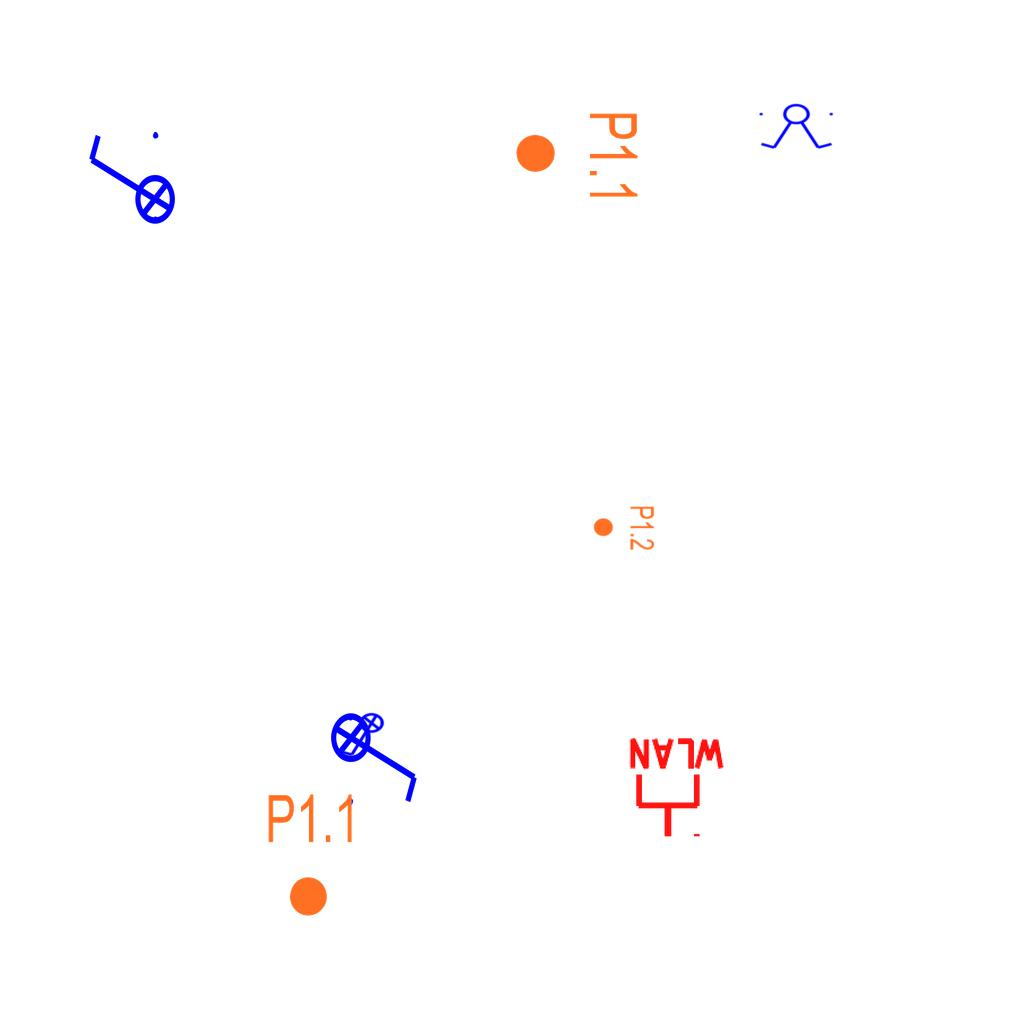Ausschalter_beleuchtet: (329, 699, 425, 811), (81, 126, 177, 238), (335, 712, 391, 760)
Downlight_LED_Einbauleuchten_Flur: (513, 110, 641, 203), (265, 791, 358, 919), (592, 505, 656, 551)
Serienschalter: (755, 103, 839, 151)
WLAN: (625, 736, 729, 841)
